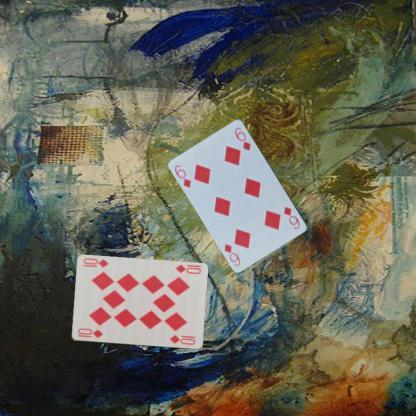10d: (172, 262, 202, 276), (75, 326, 104, 340)
6d: (282, 204, 302, 231), (172, 162, 192, 189)
